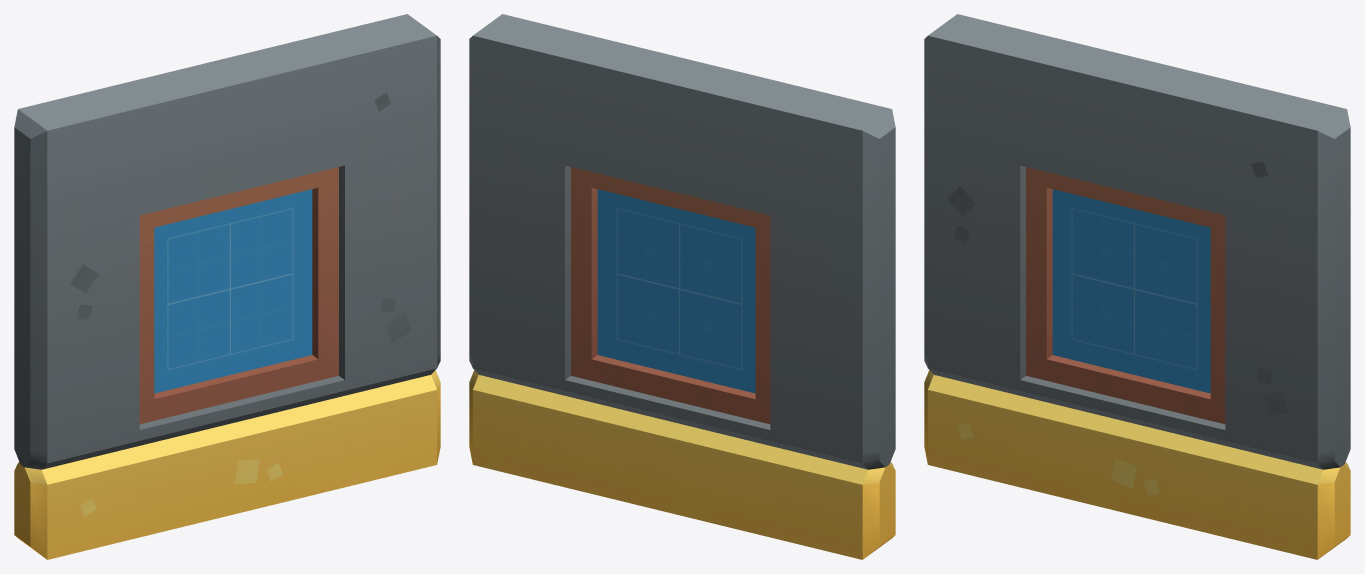
File: wall-window-closed.glb
3 views of the same model, side by side, from view 1: azimuth 30°, elevation 25°; view 2: azimuth 150°, elevation 25°; view 3: azimuth 330°, elevation 25° (orthographic).
Visible parts, largest first — view 1: Wall_Window_Closed; view 2: Wall_Window_Closed; view 3: Wall_Window_Closed.
Boxes of the visible parts, x1,y1,x2,y2 form: Wall_Window_Closed: [14, 14, 440, 559]; Wall_Window_Closed: [469, 14, 895, 559]; Wall_Window_Closed: [924, 14, 1350, 559].
Bounding box in the file's own units: 4 × 4 × 0.5298.
1 material, 1 textured.
